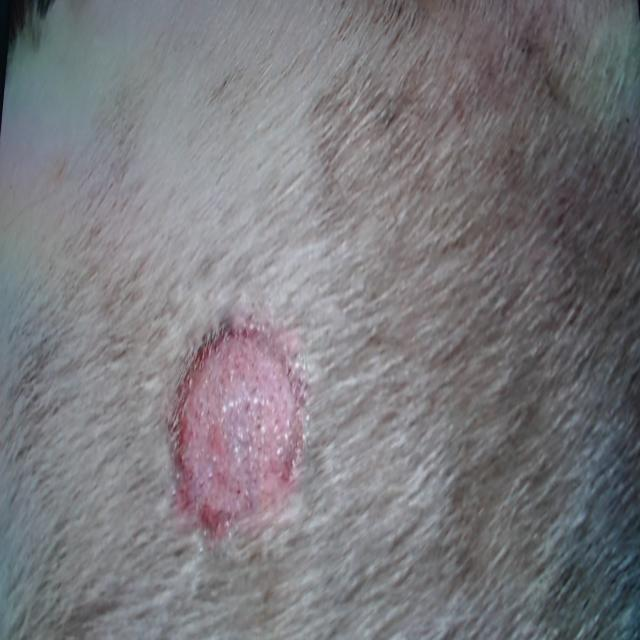ringworm: (163, 273, 317, 572)
